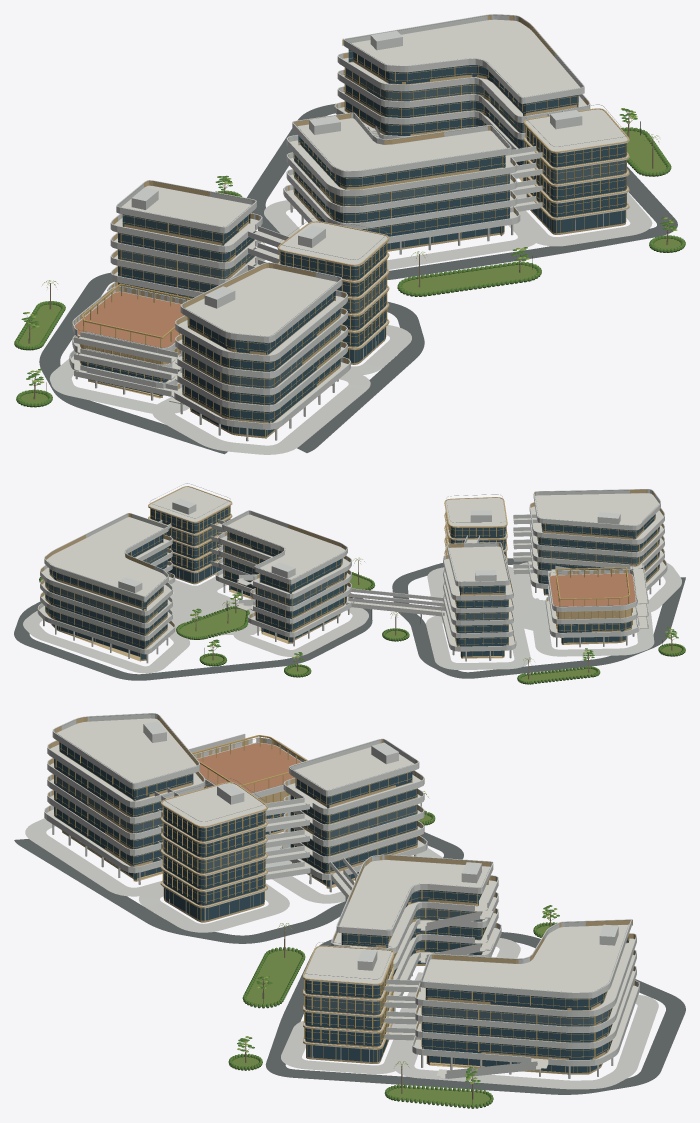
The model's file is uestc-lod2.glb.
The picture shows the model from 3 angles, top to bottom: view 1: azimuth 30°, elevation 25°; view 2: azimuth 150°, elevation 25°; view 3: azimuth 270°, elevation 25°; orthographic projection. The views are drawn at different scales.
Visible parts, largest first — view 1: rounded white balcony ribbons | ivory metal.002, recessed blue glazing | blue glazing.002, flat roof planes | roof.002, gold spandrels | gold spandrel.002, internal drive and court paving | dark paving.002, site perimeter paving | pale paving.002, champagne window grids | champagne fins.002, balcony floor decks | roof.002, recessed blue glazing | glazing light.002, elevated wing connectors | ivory metal.002, connected planted lawns | lawn.002, terracotta roof terrace | terracotta.002 (+8 smaller); view 2: rounded white balcony ribbons | ivory metal.002, flat roof planes | roof.002, recessed blue glazing | blue glazing.002, site perimeter paving | pale paving.002, internal drive and court paving | dark paving.002, gold spandrels | gold spandrel.002, balcony floor decks | roof.002, champagne window grids | champagne fins.002, recessed blue glazing | glazing light.002, terracotta roof terrace | terracotta.002, connected planted lawns | lawn.002, continuous low hedges | hedge.002 (+11 smaller); view 3: recessed blue glazing | blue glazing.002, flat roof planes | roof.002, rounded white balcony ribbons | ivory metal.002, site perimeter paving | pale paving.002, gold spandrels | gold spandrel.002, internal drive and court paving | dark paving.002, balcony floor decks | roof.002, champagne window grids | champagne fins.002, recessed blue glazing | glazing light.002, elevated wing connectors | ivory metal.002, gold vertical sun fins | champagne fins.002, connected planted lawns | lawn.002 (+8 smaller).
Boxes of the visible parts, x1,y1,x2,y2 form: rounded white balcony ribbons | ivory metal.002: [69, 14, 590, 429]; recessed blue glazing | blue glazing.002: [81, 49, 626, 436]; flat roof planes | roof.002: [72, 19, 629, 351]; gold spandrels | gold spandrel.002: [73, 15, 629, 438]; internal drive and court paving | dark paving.002: [39, 103, 677, 454]; site perimeter paving | pale paving.002: [49, 193, 652, 454]; champagne window grids | champagne fins.002: [81, 51, 626, 436]; balcony floor decks | roof.002: [70, 58, 629, 429]; recessed blue glazing | glazing light.002: [118, 67, 626, 388]; elevated wing connectors | ivory metal.002: [74, 111, 563, 396]; connected planted lawns | lawn.002: [19, 130, 680, 403]; terracotta roof terrace | terracotta.002: [74, 292, 184, 347]; rounded white balcony ribbons | ivory metal.002: [37, 489, 667, 654]; flat roof planes | roof.002: [45, 487, 660, 611]; recessed blue glazing | blue glazing.002: [45, 506, 659, 659]; site perimeter paving | pale paving.002: [23, 562, 681, 673]; internal drive and court paving | dark paving.002: [14, 558, 685, 680]; gold spandrels | gold spandrel.002: [39, 486, 665, 661]; balcony floor decks | roof.002: [38, 506, 666, 654]; champagne window grids | champagne fins.002: [46, 509, 659, 659]; recessed blue glazing | glazing light.002: [45, 519, 659, 623]; terracotta roof terrace | terracotta.002: [549, 573, 635, 606]; connected planted lawns | lawn.002: [179, 574, 682, 681]; continuous low hedges | hedge.002: [39, 572, 685, 684]; recessed blue glazing | blue glazing.002: [54, 742, 628, 1072]; flat roof planes | roof.002: [52, 718, 631, 998]; rounded white balcony ribbons | ivory metal.002: [44, 713, 639, 1066]; site perimeter paving | pale paving.002: [25, 818, 658, 1089]; gold spandrels | gold spandrel.002: [45, 715, 636, 1074]; internal drive and court paving | dark paving.002: [14, 832, 685, 1094]; balcony floor decks | roof.002: [47, 745, 637, 1066]; champagne window grids | champagne fins.002: [54, 743, 627, 1072]; recessed blue glazing | glazing light.002: [54, 775, 612, 1026]; elevated wing connectors | ivory metal.002: [154, 733, 420, 1039]; gold vertical sun fins | champagne fins.002: [55, 756, 629, 1057]; connected planted lawns | lawn.002: [232, 814, 552, 1106].
Bounding box in the file's own units: 182 × 26.5 × 148.
